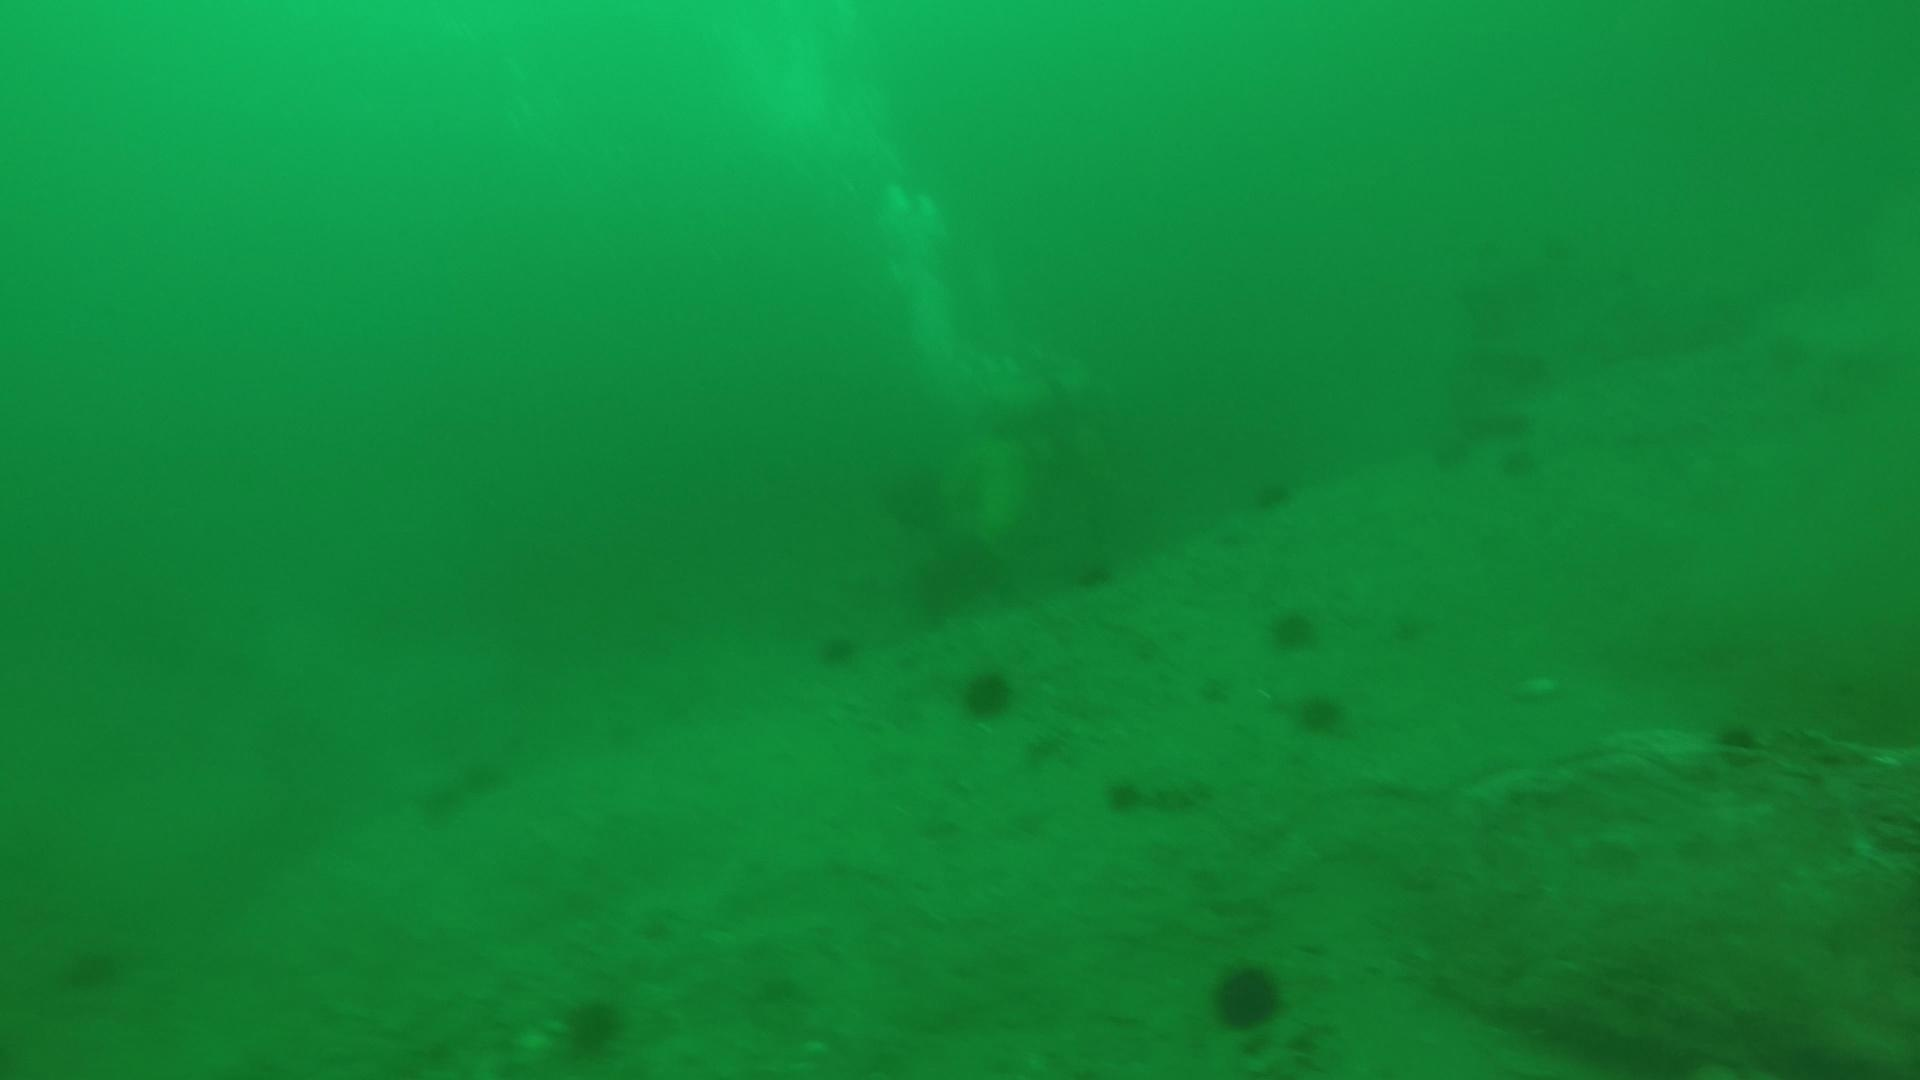echinus: (1204, 956, 1290, 1036), (550, 990, 632, 1062), (55, 935, 131, 997), (952, 659, 1021, 725), (1288, 687, 1352, 741), (1262, 603, 1324, 655), (808, 624, 865, 673), (404, 783, 460, 832), (450, 748, 506, 796), (1706, 713, 1764, 758), (1491, 436, 1545, 484), (1422, 430, 1476, 477), (1510, 349, 1564, 397), (1764, 335, 1818, 382), (1067, 549, 1122, 595), (1098, 770, 1150, 819), (1246, 469, 1299, 516)
